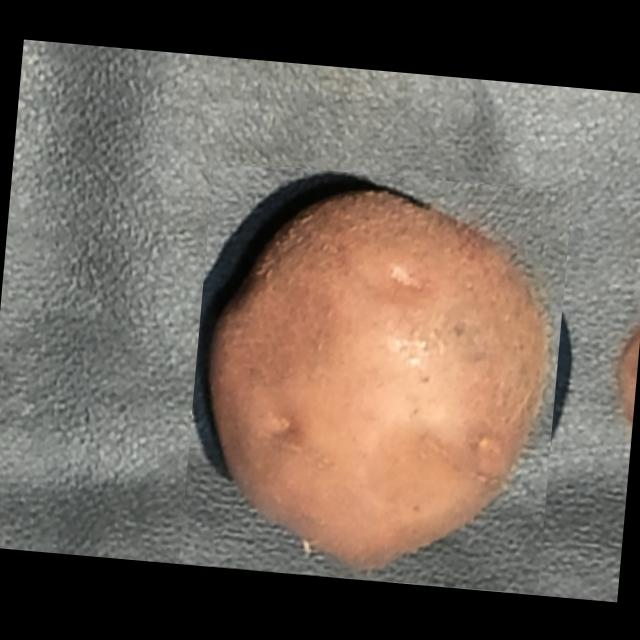Diseased-fungal potato: (178, 159, 572, 593)
